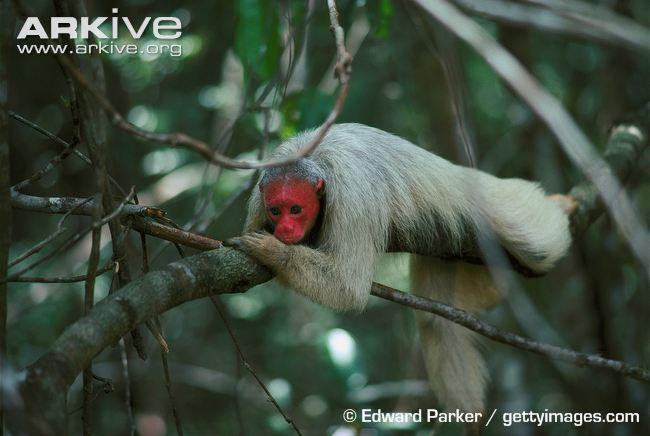monkey: (71, 123, 576, 344)
